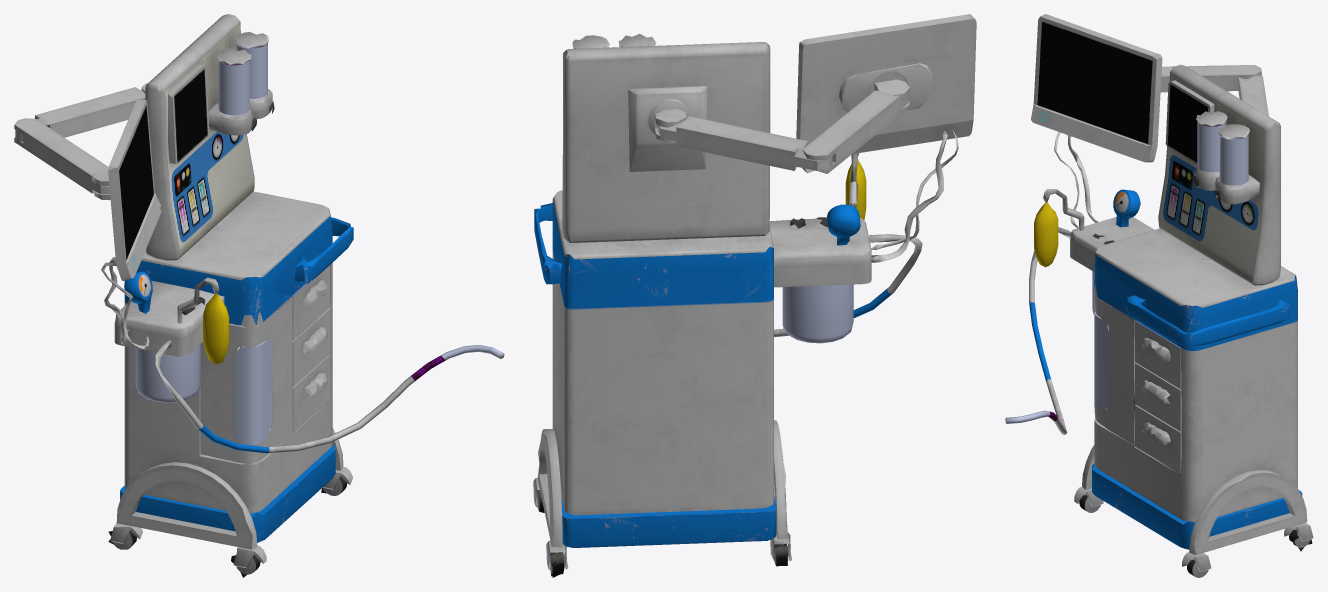
Rendered from Anesthesia.obj.
3 views of the same model, side by side, from view 1: azimuth 30°, elevation 25°; view 2: azimuth 150°, elevation 25°; view 3: azimuth 270°, elevation 25° (orthographic). The views are drawn at different scales.
Parts seen in each view (by area): view 1: Anesthesia:Anesthesia; view 2: Anesthesia:Anesthesia; view 3: Anesthesia:Anesthesia.
Part boxes in pixels (box(x1,y1,x2,y2)): Anesthesia:Anesthesia: box(14, 14, 504, 577); Anesthesia:Anesthesia: box(533, 14, 976, 577); Anesthesia:Anesthesia: box(1005, 14, 1313, 577).
Size of the model in its own units: 1.25 by 1.49 by 0.9704.
Materials: 1 (1 with a texture image).
